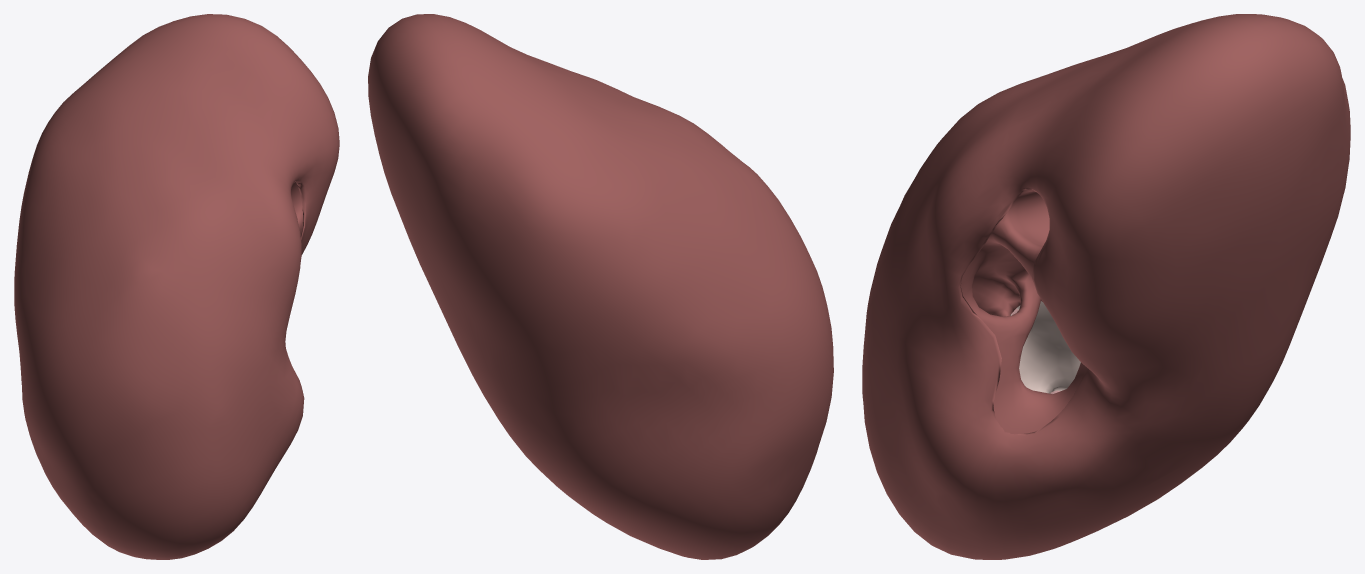
The model's file is vh_f_kidney_r-80.glb.
3 views of the same model, side by side, from view 1: azimuth 30°, elevation 25°; view 2: azimuth 150°, elevation 25°; view 3: azimuth 270°, elevation 25° (orthographic). The views are drawn at different scales.
Parts seen in each view (by area): view 1: VH_F_kidney_capsule_R; view 2: VH_F_kidney_capsule_R; view 3: VH_F_kidney_capsule_R, VH_F_hilum_of_kidney_R, VH_F_renal_column_R.
Part boxes in pixels (x1=…): VH_F_kidney_capsule_R: x1=14, y1=14, x2=339, y2=559; VH_F_kidney_capsule_R: x1=368, y1=14, x2=833, y2=559; VH_F_kidney_capsule_R: x1=862, y1=14, x2=1350, y2=559; VH_F_hilum_of_kidney_R: x1=960, y1=189, x2=1086, y2=434; VH_F_renal_column_R: x1=1010, y1=301, x2=1080, y2=393.
Bounding box in the file's own units: 0.0734 × 0.0979 × 0.0695.
